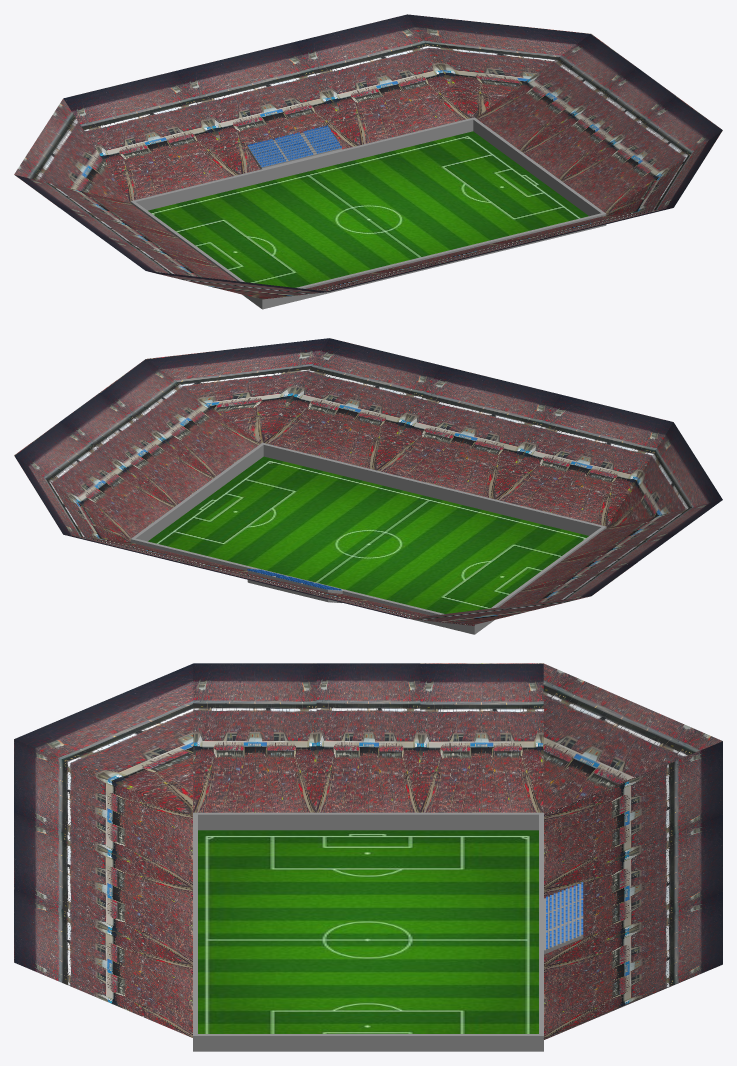
Rendered from スタジアムテクスチャ貼り付けAI生成画像スケール整え 椅子幅広げ.fbx.
The picture shows the model from 3 angles, top to bottom: view 1: azimuth 30°, elevation 25°; view 2: azimuth 150°, elevation 25°; view 3: azimuth 270°, elevation 25°; orthographic projection. The views are drawn at different scales.
Parts seen in each view (by area): view 1: 平面, 平面.012, 平面.015, 平面.010, 平面.011, 平面.007, 平面.014, 立方体.003, 平面.013, 平面.002, 平面.004, 立方体.002 (+7 smaller); view 2: 平面, 平面.003, 平面.009, 平面.001, 平面.012, 平面.002, 平面.011, 平面.007, 平面.006, 立方体.002, 平面.005, 平面.004 (+8 smaller); view 3: 平面, 平面.005, 平面.013, 平面.004, 平面.014, 平面.003, 平面.006, 平面.012, 平面.015, 平面.009, 平面.001, 平面.010 (+4 smaller).
Part boxes in pixels (<box>): 平面: <box>148,131,588,287</box>; 平面.012: <box>295,14,637,151</box>; 平面.015: <box>63,71,240,202</box>; 平面.010: <box>176,42,359,174</box>; 平面.011: <box>561,96,722,215</box>; 平面.007: <box>522,68,676,180</box>; 平面.014: <box>14,98,129,202</box>; 立方体.003: <box>130,117,475,210</box>; 平面.013: <box>15,175,175,236</box>; 平面.002: <box>607,130,722,215</box>; 平面.004: <box>61,208,215,265</box>; 立方体.002: <box>260,213,606,309</box>; 平面: <box>148,456,588,613</box>; 平面.003: <box>376,365,560,499</box>; 平面.009: <box>263,338,441,470</box>; 平面.001: <box>495,394,673,526</box>; 平面.012: <box>14,421,241,569</box>; 平面.002: <box>146,338,329,443</box>; 平面.011: <box>100,359,260,477</box>; 平面.007: <box>60,393,214,505</box>; 平面.006: <box>606,422,722,527</box>; 立方体.002: <box>262,442,606,535</box>; 平面.005: <box>561,500,722,561</box>; 平面.004: <box>521,534,675,590</box>; 平面: <box>198,830,538,1033</box>; 平面.005: <box>193,663,316,812</box>; 平面.013: <box>420,663,543,812</box>; 平面.004: <box>316,663,420,812</box>; 平面.014: <box>543,663,722,816</box>; 平面.003: <box>14,812,192,964</box>; 平面.006: <box>14,663,193,814</box>; 平面.012: <box>543,891,722,1039</box>; 平面.015: <box>544,741,722,889</box>; 平面.009: <box>14,889,192,1037</box>; 平面.001: <box>14,739,192,887</box>; 平面.010: <box>544,814,722,966</box>.
Bounding box in the file's own units: 359 × 39.8 × 287.
